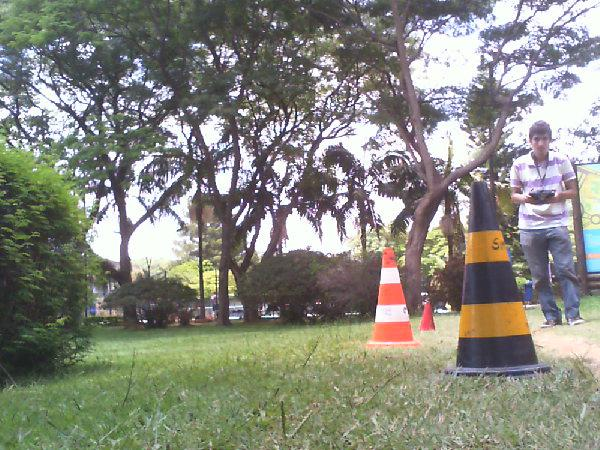0 cone: (442, 181, 551, 378), (366, 247, 419, 348), (418, 302, 435, 332)
